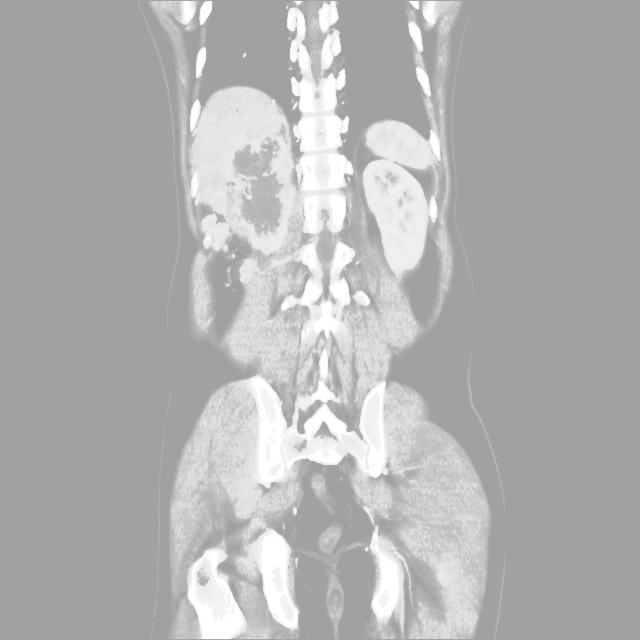TUMOR: (154, 118, 503, 379)
